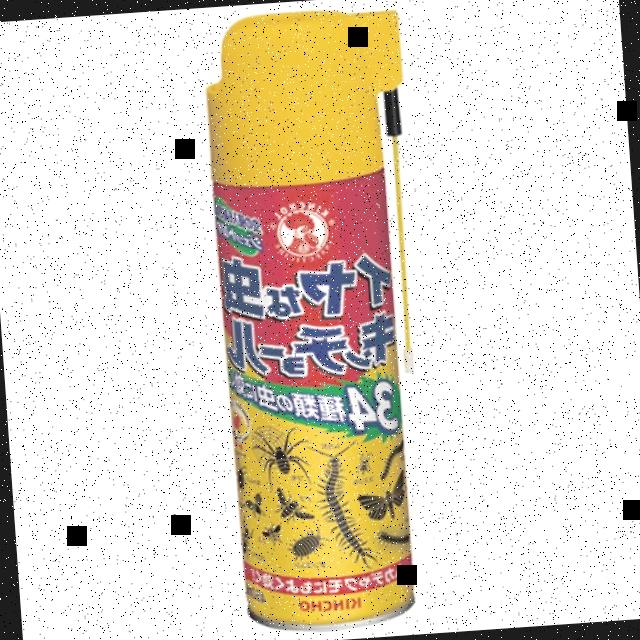chemical_spray_can: (167, 0, 460, 640)
